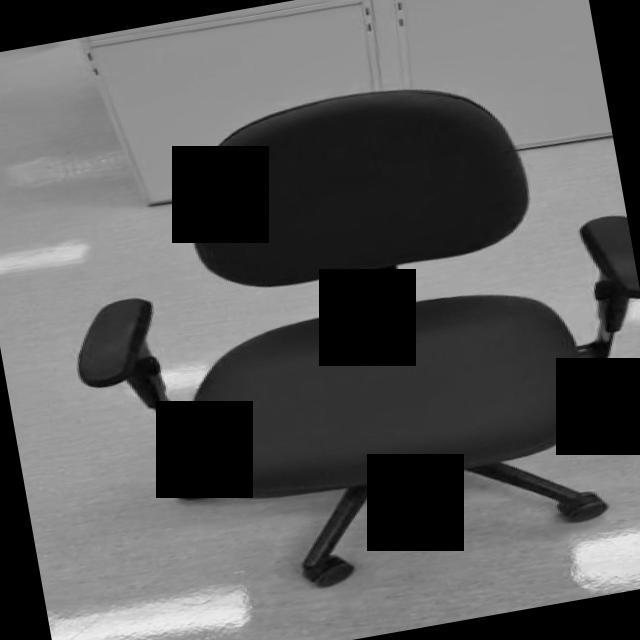chair: (38, 51, 640, 620)
